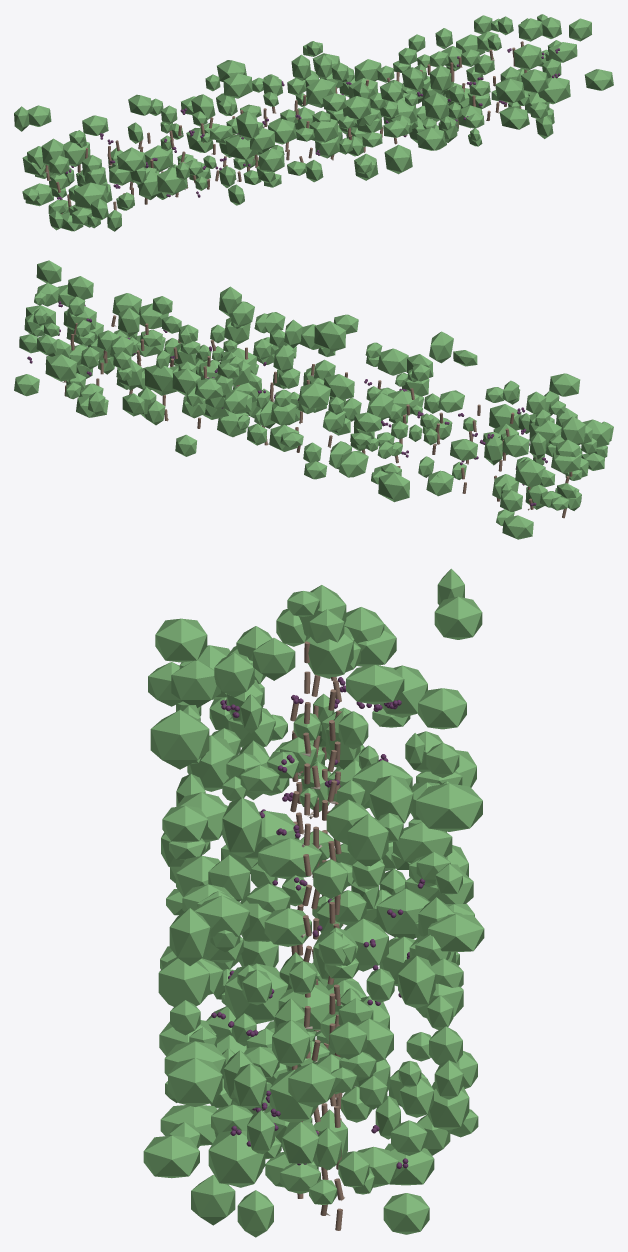
3 views of the same model, one above another, from view 1: azimuth 30°, elevation 25°; view 2: azimuth 150°, elevation 25°; view 3: azimuth 270°, elevation 25° (orthographic). The views are drawn at different scales.
Visible parts, largest first — view 1: object 181; view 2: object 181; view 3: object 181.
Part boxes in pixels (box(x1,y1,x2,y2)): object 181: box(14, 14, 613, 231); object 181: box(14, 260, 613, 539); object 181: box(143, 568, 484, 1237).
Size of the model in its own units: 10.81 by 2.18 by 2.96.
